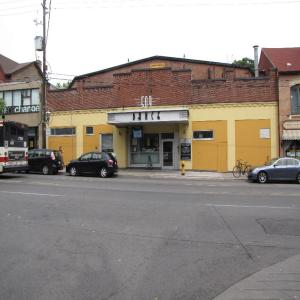Vehicle-registration-plate: (115, 164, 117, 167)
